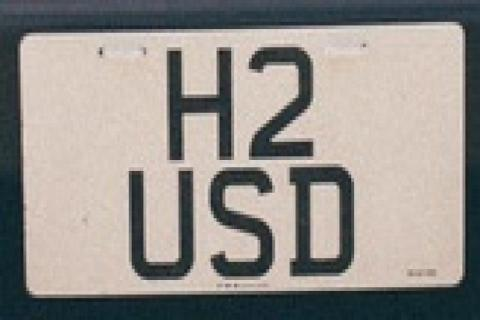LicensePlate: (16, 23, 471, 299)
